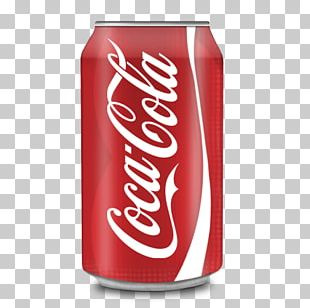coke: (82, 23, 224, 288)
